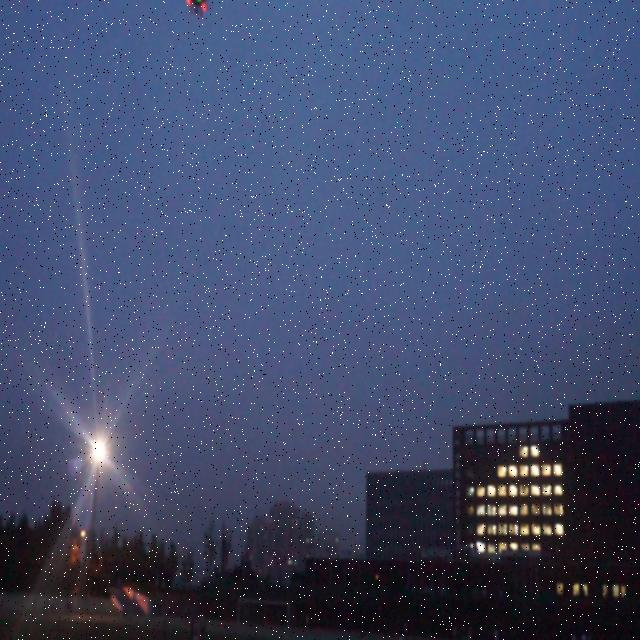UAV: (185, 0, 207, 18)
